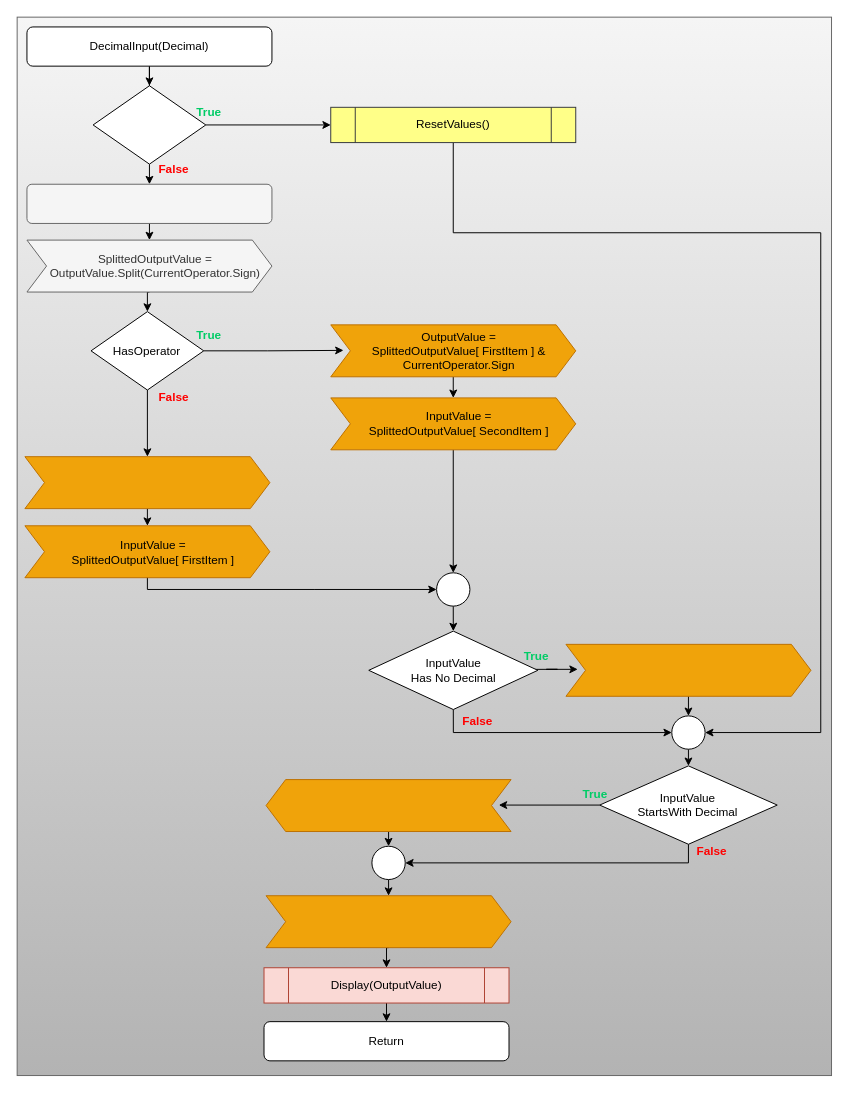
Image size: 849x1093. Some labels were removed from this diagram. The centre of each missing label's shape, as x and y in pixels:
+ SplittedOutputValue: String: the point at 149,203
HasResult: the point at 149,124
InputValue &= Decimal: the point at 688,669
InputValue = "0" & InputValue: the point at 388,805
OutputValue &= InputValue: the point at 388,921
OutputValue = Empty: the point at 147,482
